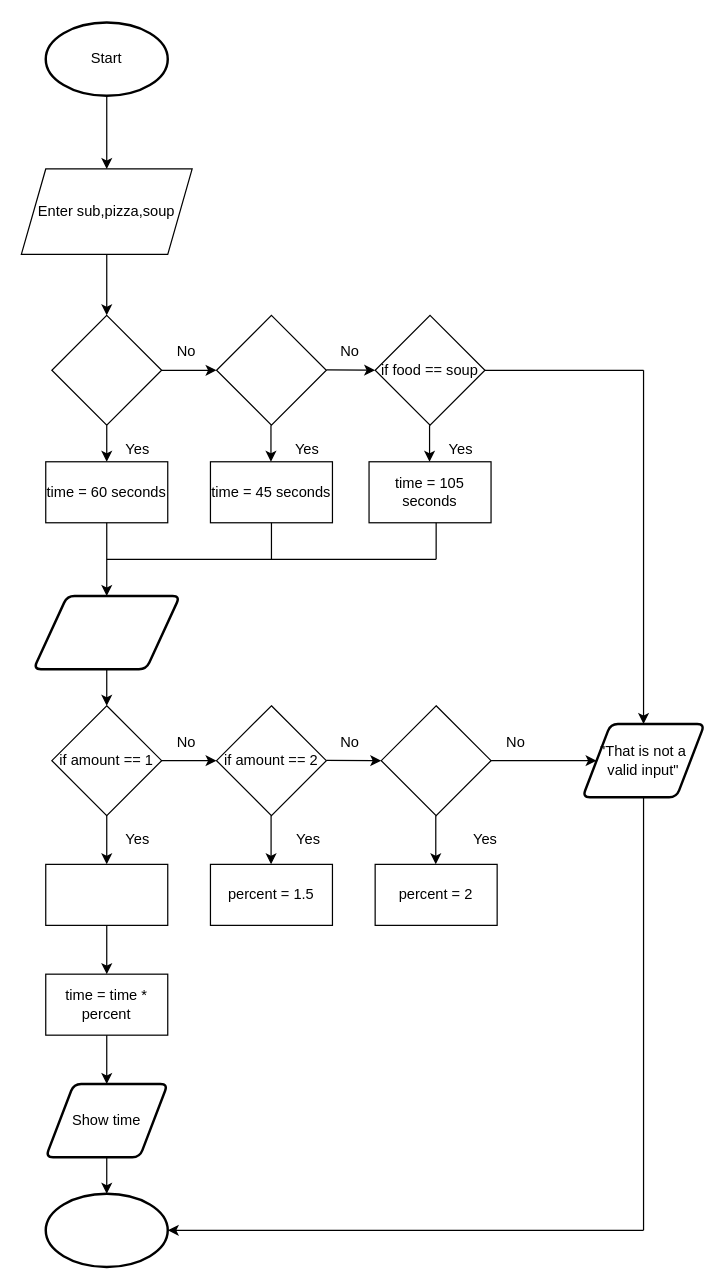
The diagram is 727 pixels wide and 1288 high, and some of its shapes have lost their labels. Here are the shapes that lost their labels. From the top down, the centre of each, then its label:
[106,369]: if food == sub
[270,369]: if food == pizza
[106,632]: Get food amount
[435,760]: if amount == 3
[106,894]: percent = 1
[106,1230]: Stop
